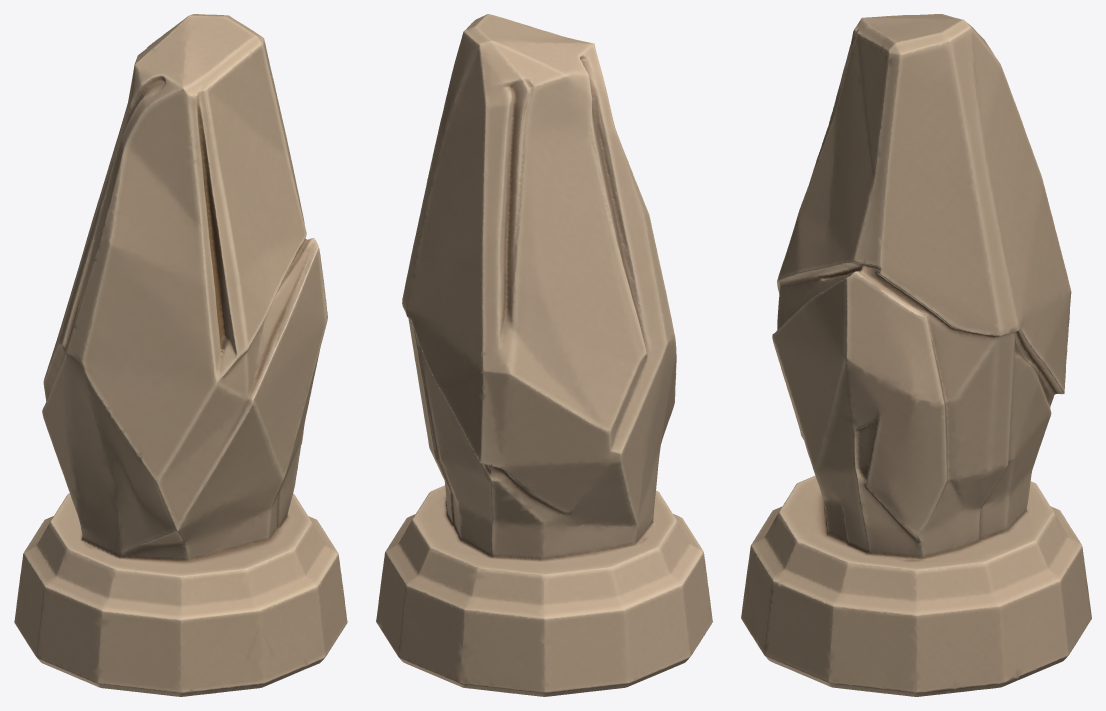
The model's file is Meshy_AI_Geometric_Stone_Monolith_20261027_texture.fbx.
3 views of the same model, side by side, from view 1: azimuth 30°, elevation 25°; view 2: azimuth 150°, elevation 25°; view 3: azimuth 270°, elevation 25° (orthographic). The views are drawn at different scales.
Parts seen in each view (by area): view 1: Mesh_0; view 2: Mesh_0; view 3: Mesh_0.
Part boxes in pixels (<box>): Mesh_0: <box>14,14,347,696</box>; Mesh_0: <box>376,14,712,696</box>; Mesh_0: <box>741,14,1091,696</box>.
Bounding box in the file's own units: 97.06 × 190 × 97.11.
Materials: 1 (1 with a texture image).
